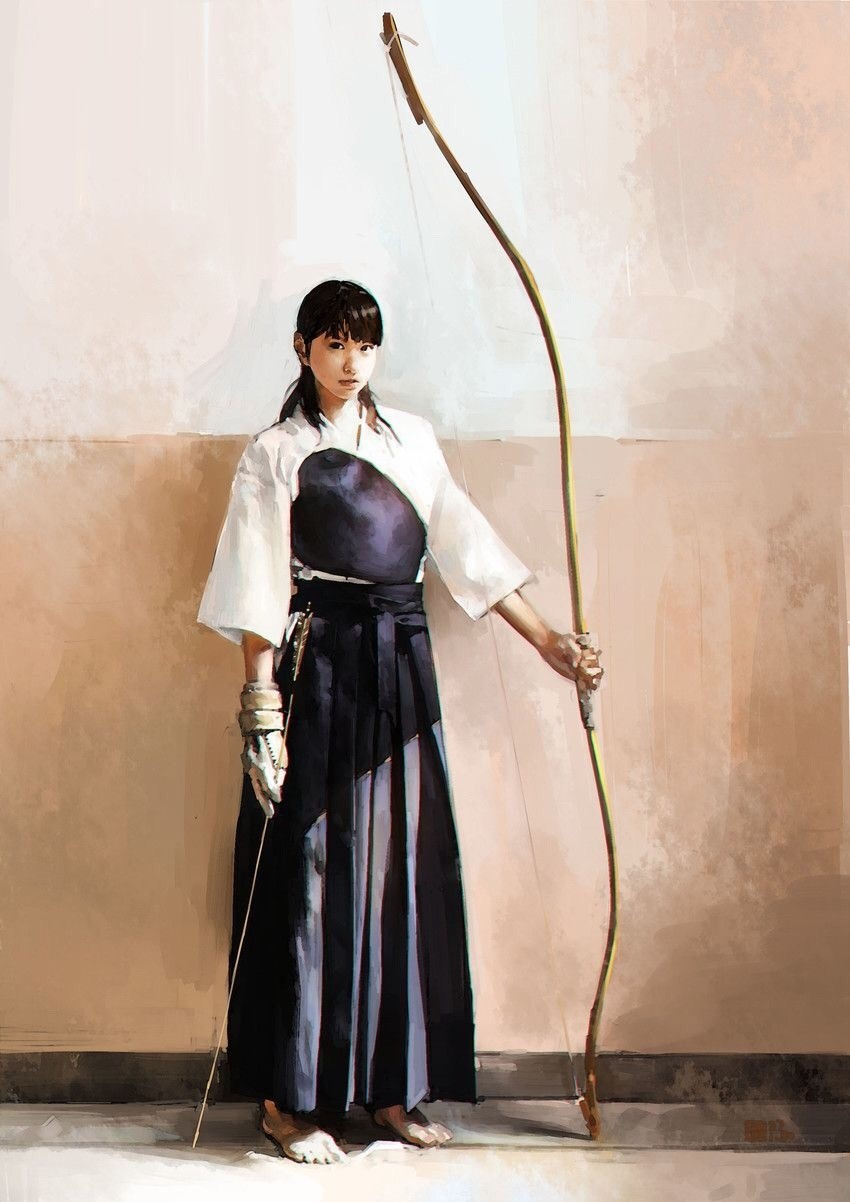face_no_mask: (295, 281, 384, 400)
